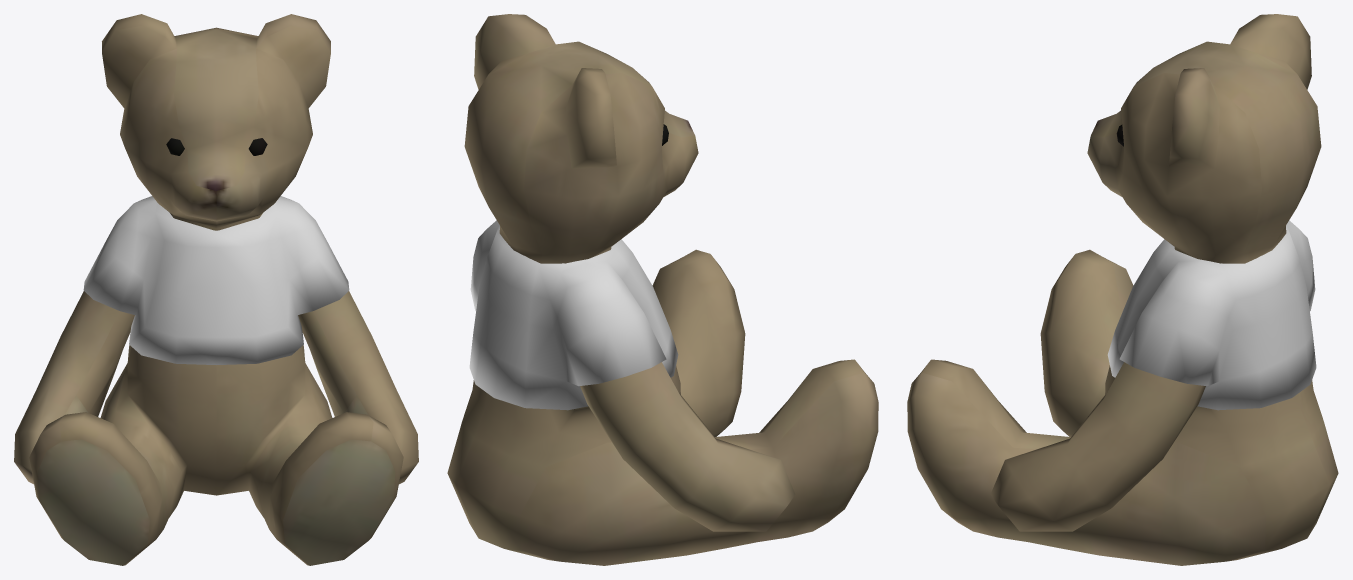
The picture shows the model from 3 angles, left to right: view 1: azimuth 30°, elevation 25°; view 2: azimuth 150°, elevation 25°; view 3: azimuth 270°, elevation 25°; orthographic projection. The views are drawn at different scales.
Size of the model in its own units: 7.53 by 9.31 by 7.36.
2 materials, 2 textured.
